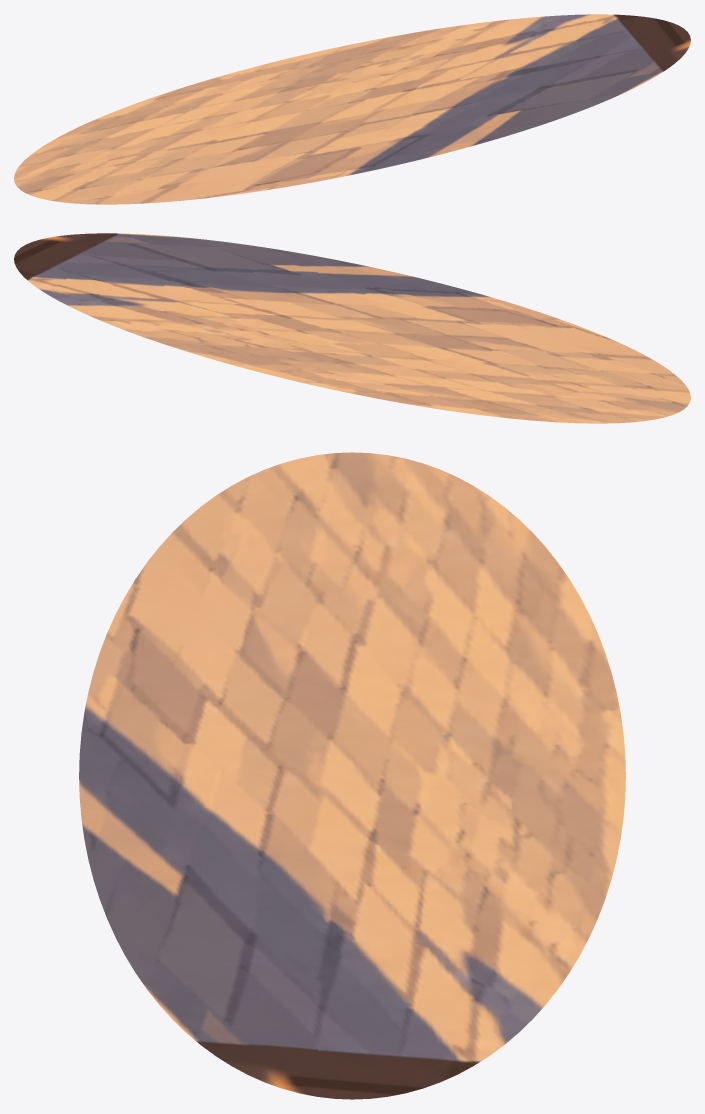
The model's file is arena_paving.glb.
3 renders of one model, top to bottom at view 1: azimuth 30°, elevation 25°; view 2: azimuth 150°, elevation 25°; view 3: azimuth 270°, elevation 25°, orthographic. The views are drawn at different scales.
Parts seen in each view (by area): view 1: Arena paving / 3D.002; view 2: Arena paving / 3D.002; view 3: Arena paving / 3D.002.
Part boxes in pixels (left/top/right/bottom): Arena paving / 3D.002: left=14, top=14, right=690, bottom=204; Arena paving / 3D.002: left=14, top=233, right=690, bottom=423; Arena paving / 3D.002: left=79, top=452, right=625, bottom=1099.
Size of the model in its own units: 4.2 by 0.00469 by 1.5.
1 material, 1 textured.
